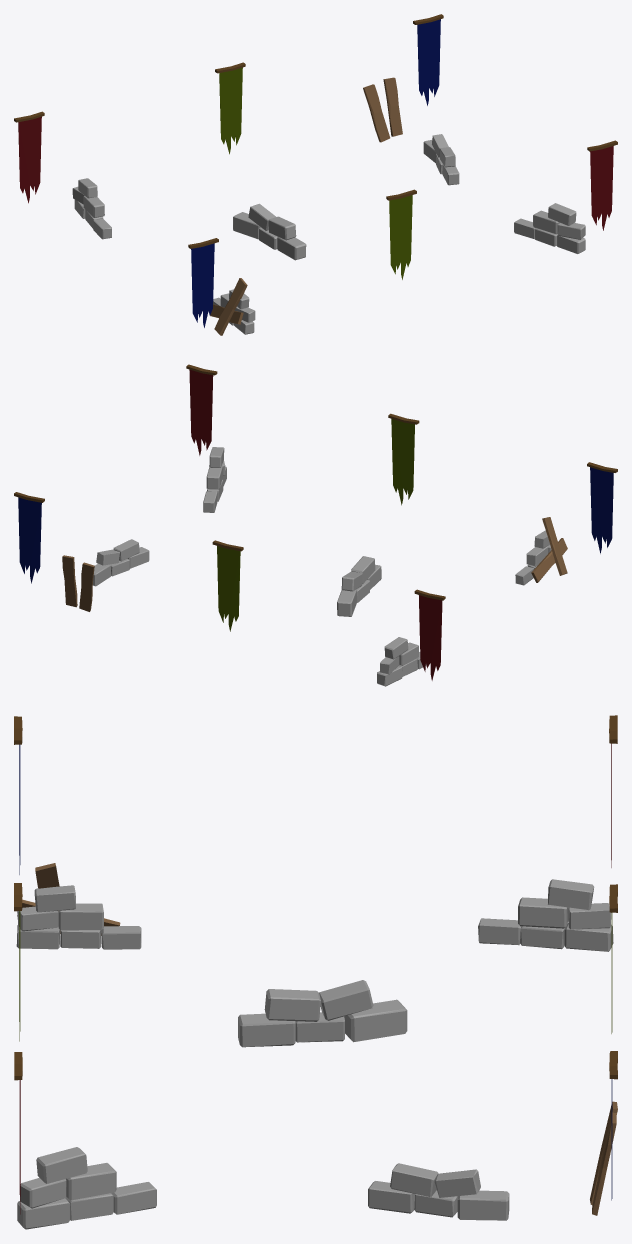
Rendered from Map3_decor.fbx.
3 views of the same model, one above another, from view 1: azimuth 30°, elevation 25°; view 2: azimuth 150°, elevation 25°; view 3: azimuth 270°, elevation 25° (orthographic). The views are drawn at different scales.
Parts seen in each view (by area): view 1: Map 1 decor; view 2: Map 1 decor; view 3: Map 1 decor.
Boxes of the visible parts, <box> form: Map 1 decor: <box>14,14,617,335</box>; Map 1 decor: <box>14,364,617,686</box>; Map 1 decor: <box>14,715,617,1229</box>.
Size of the model in its own units: 4547 by 1087 by 3220.
